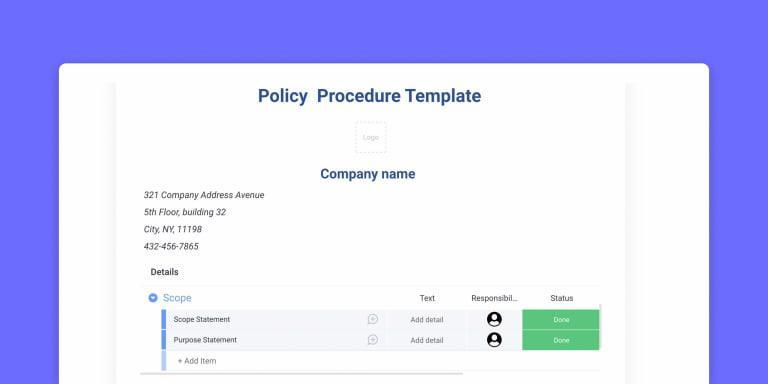button: (523, 331, 601, 351), (524, 311, 600, 330)
icon: (487, 332, 504, 350), (487, 313, 504, 328), (366, 313, 381, 327), (367, 334, 380, 348)
input: (388, 331, 469, 352), (387, 311, 469, 330)
label: (257, 86, 487, 109), (320, 168, 418, 183), (174, 335, 242, 348), (469, 293, 520, 304), (161, 292, 194, 305), (174, 317, 233, 324), (149, 267, 181, 277), (419, 293, 439, 304), (550, 295, 577, 303)
